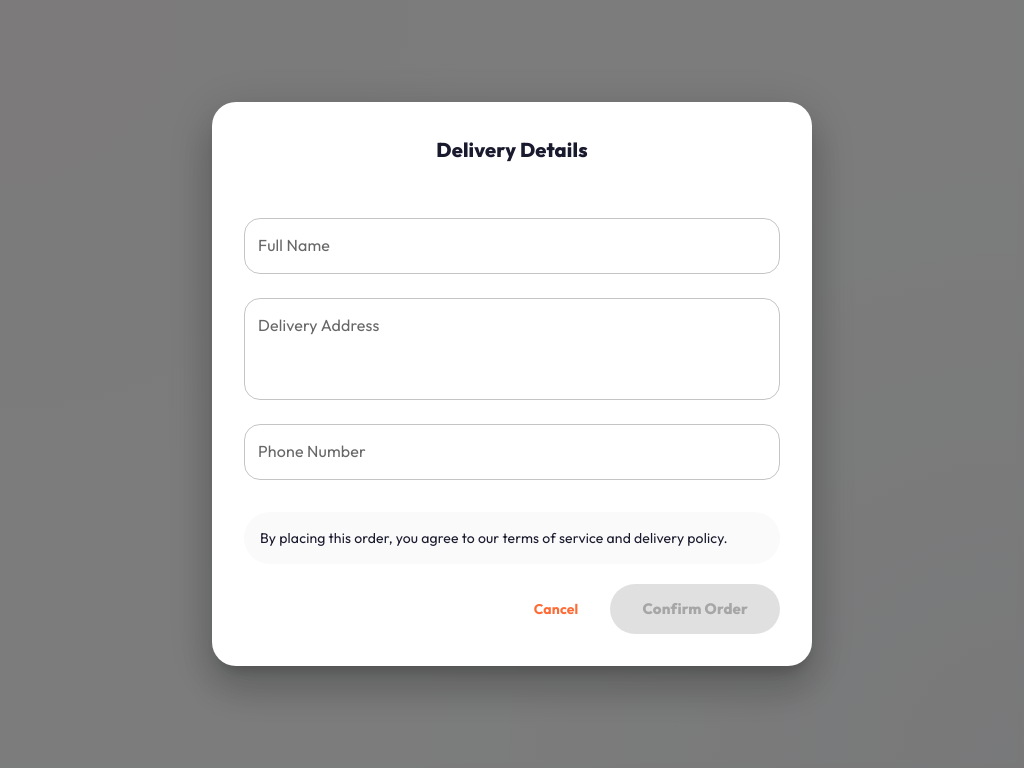
CheckoutForm › shows validation errors for empty fields
Expected: the button "Confirm Order" is disabled, [610, 584, 780, 634]
Type "J" into the field labelled "Full Name".
click(512, 246); type("J")  # box [244, 218, 780, 274]
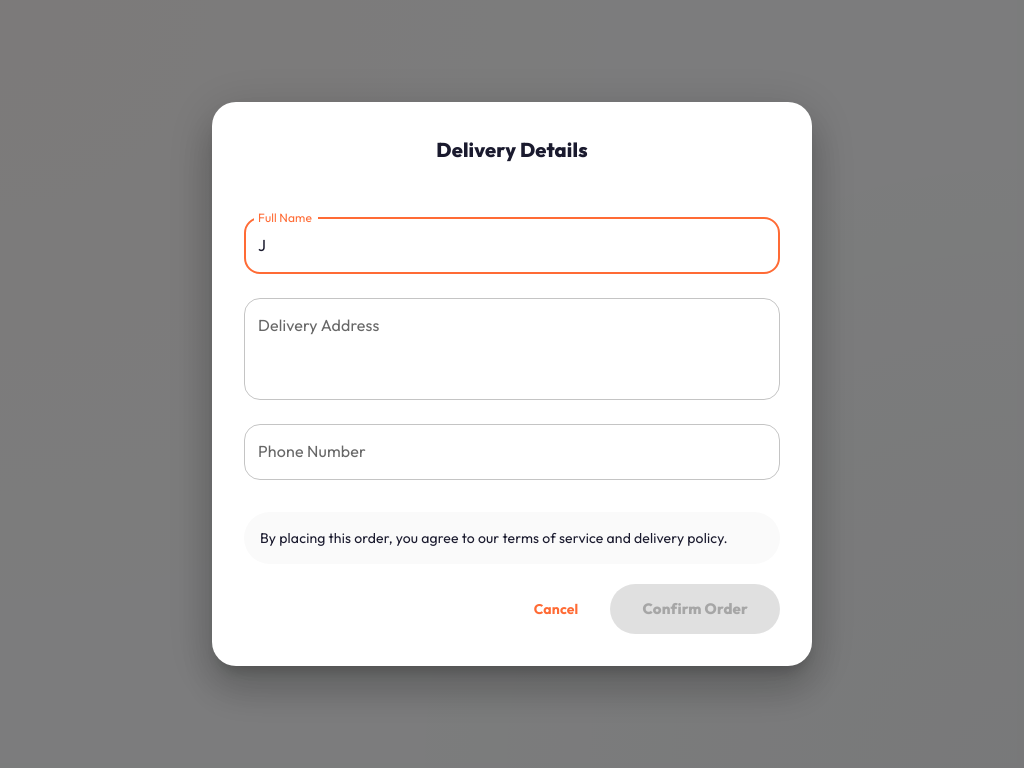
Clear the field labelled "Full Name" at (512,246), box [244, 218, 780, 274]
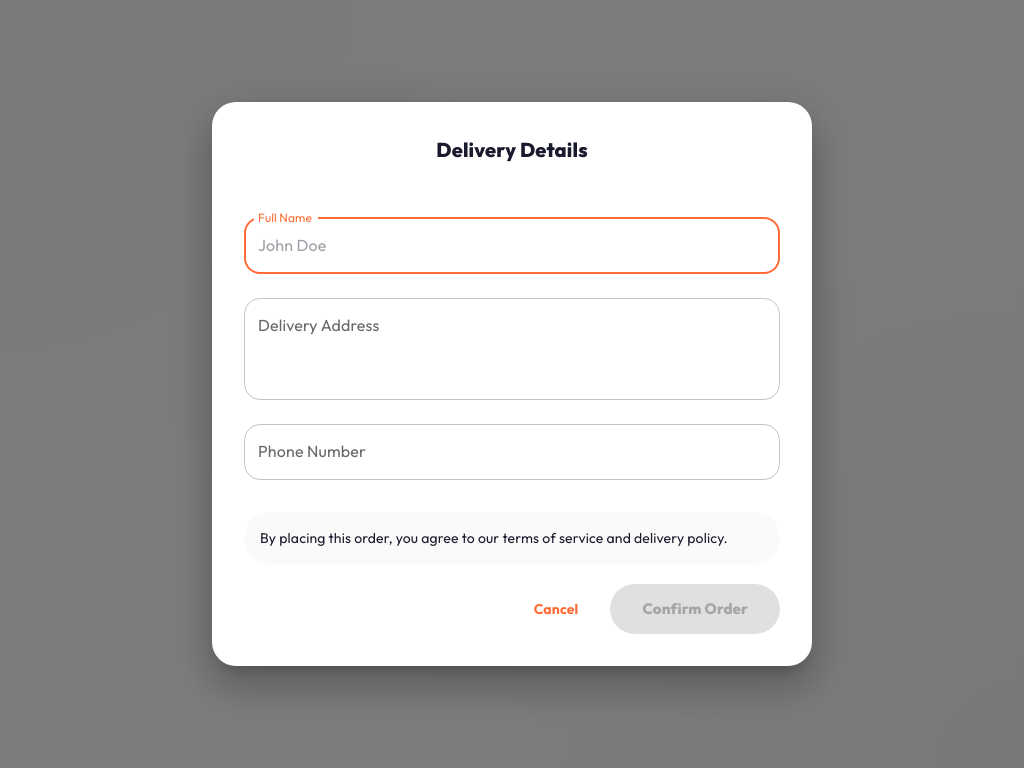
Leave the field labelled "Full Name", box [244, 218, 780, 274]
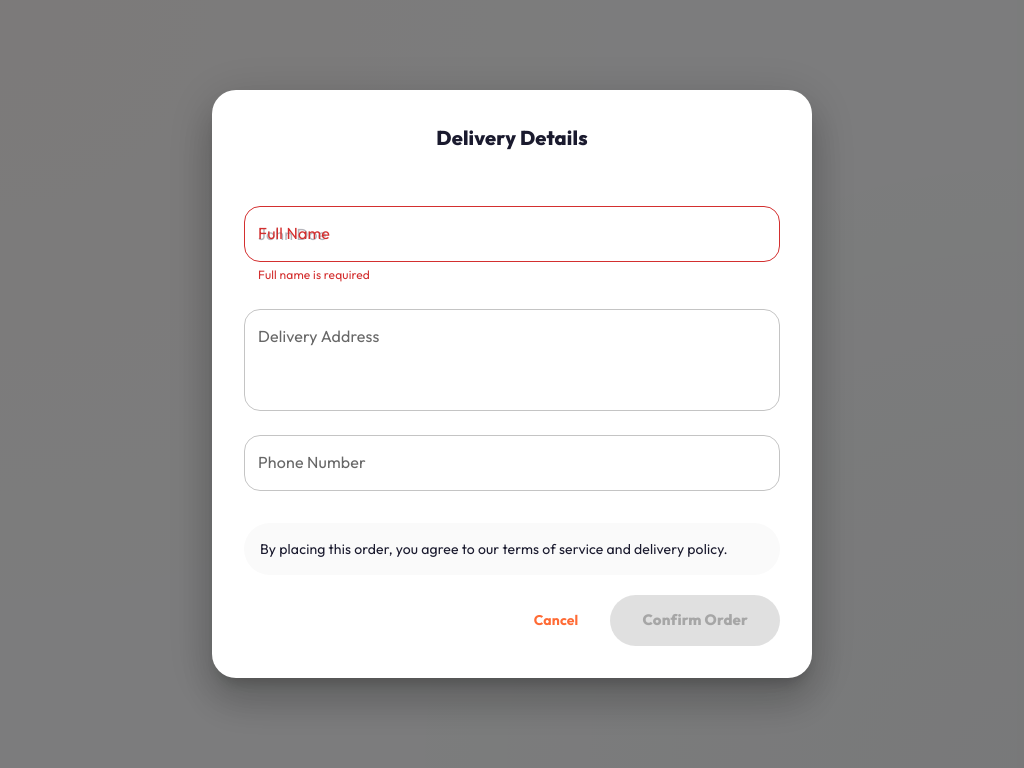
Expected: the text "Full name is required" is shown, [258, 267, 370, 282]
